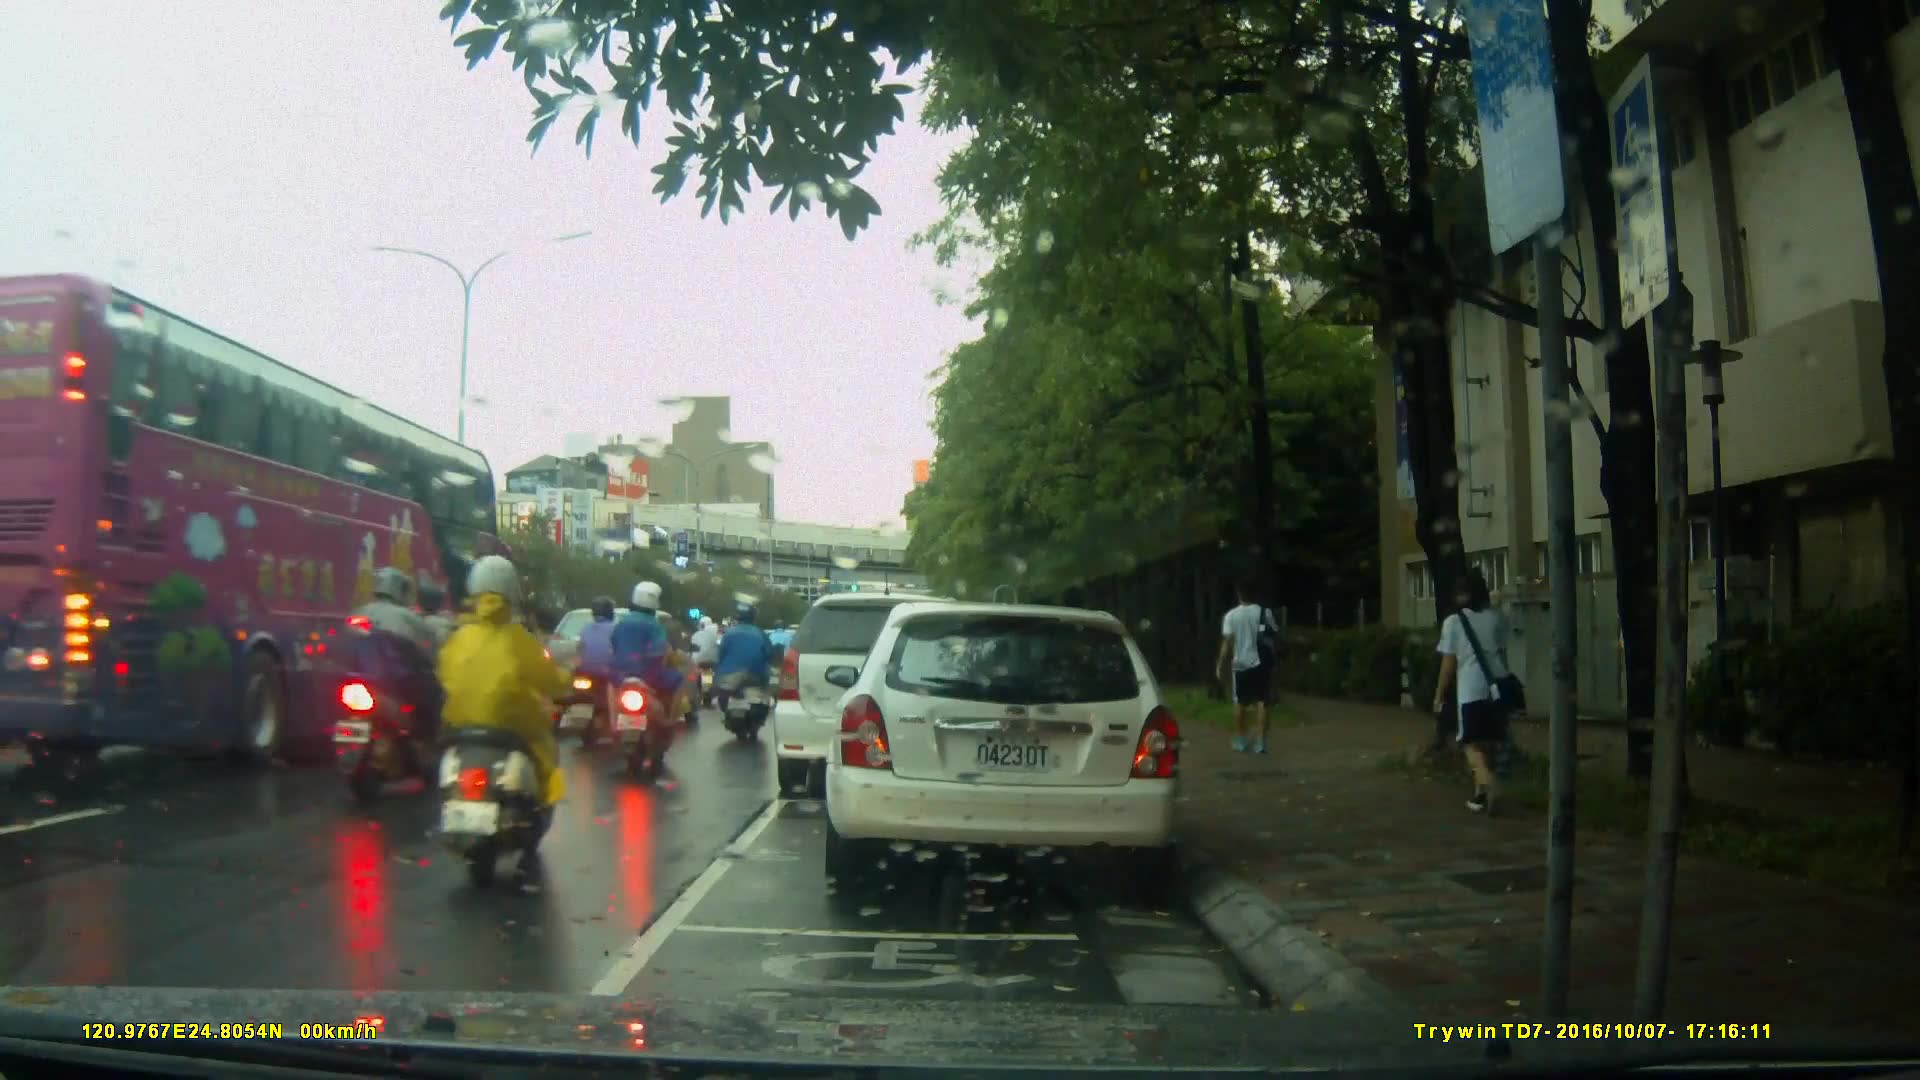pedestrian: (1424, 566, 1517, 826), (1203, 576, 1276, 763)
rider: (437, 546, 565, 890), (340, 561, 458, 808), (599, 576, 682, 793), (572, 596, 637, 754), (711, 601, 775, 751), (719, 614, 766, 710), (767, 614, 800, 691)
vehicle: (4, 289, 532, 769), (835, 594, 1194, 898), (776, 590, 1026, 784), (526, 605, 704, 744)
